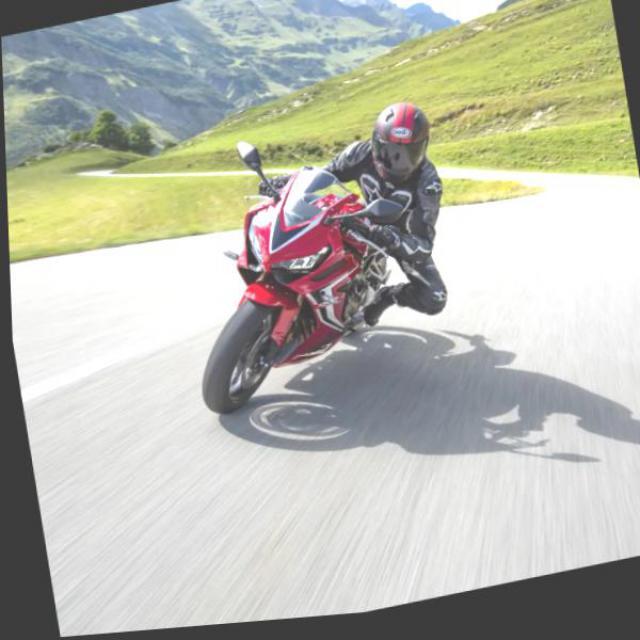CBR650R: (164, 154, 423, 426)
